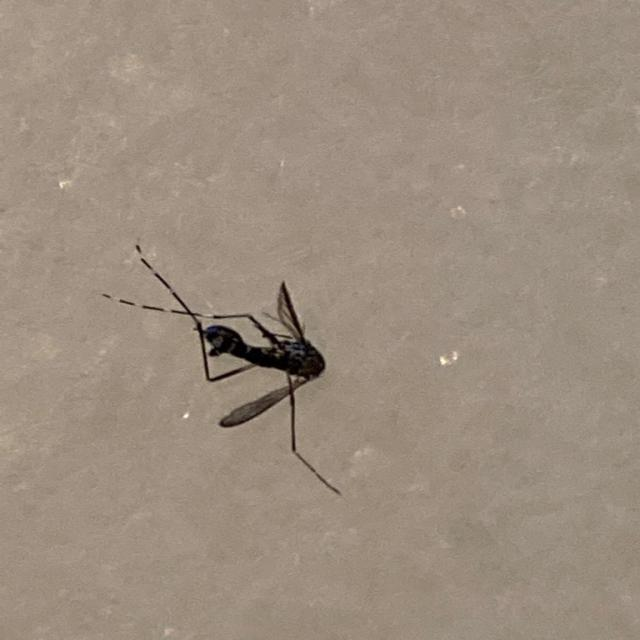albopictus: (92, 232, 350, 500)
